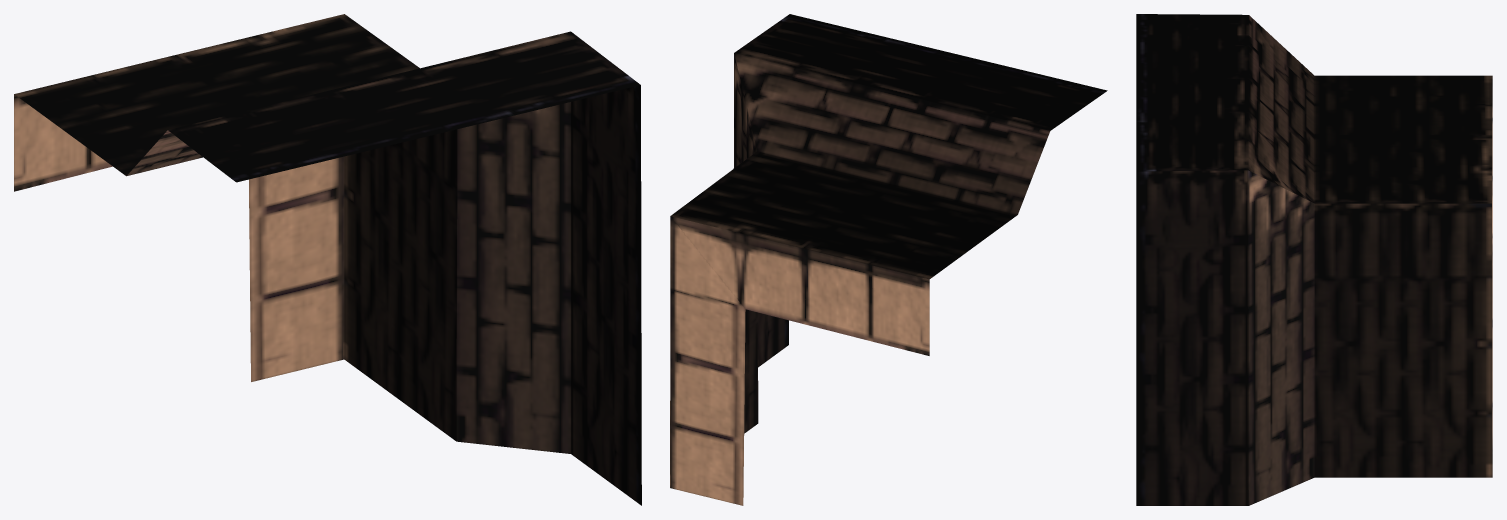
Rendered from ex_2OutCorner0.obj.
The picture shows the model from 3 angles, left to right: view 1: azimuth 30°, elevation 25°; view 2: azimuth 150°, elevation 25°; view 3: azimuth 270°, elevation 25°; orthographic projection. The views are drawn at different scales.
Visible parts, largest first — view 1: ex_OutCorner0_Plane.1; view 2: ex_OutCorner0_Plane.1; view 3: ex_OutCorner0_Plane.1.
Boxes of the visible parts, box(x1,y1,x2,y2) form: ex_OutCorner0_Plane.1: box(14, 14, 641, 505); ex_OutCorner0_Plane.1: box(670, 14, 1107, 505); ex_OutCorner0_Plane.1: box(1136, 14, 1492, 505).
Size of the model in its own units: 142 by 141 by 136.
